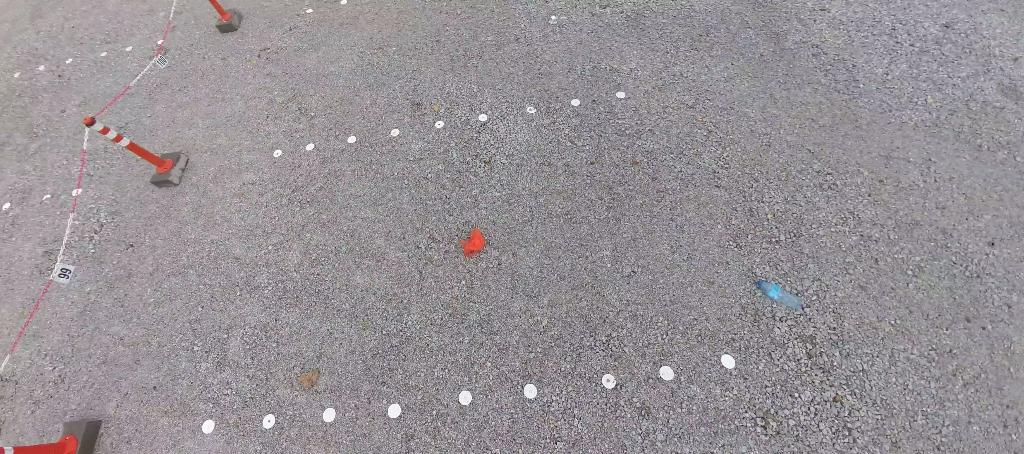garbage: (753, 276, 805, 313), (457, 227, 490, 259)
